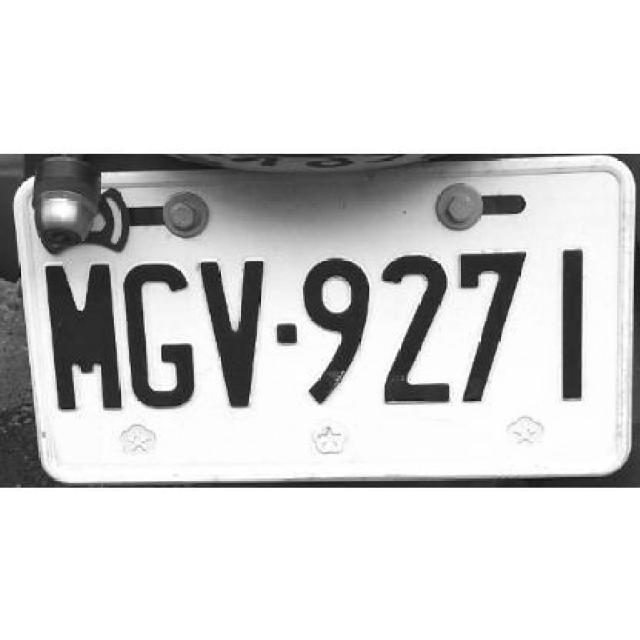-: (277, 322, 297, 348)
1: (555, 234, 588, 403)
2: (377, 246, 452, 414)
7: (451, 242, 531, 406)
9: (298, 248, 374, 408)
G: (123, 256, 194, 410)
M: (40, 262, 123, 409)
V: (197, 257, 271, 409)
